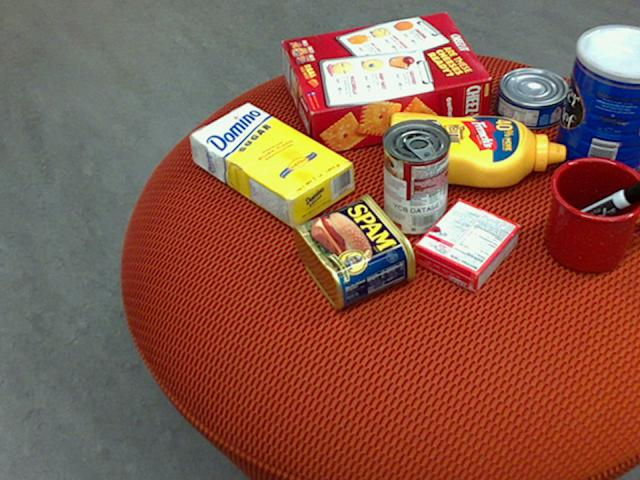cracker_box: (281, 11, 490, 155)
gelatin_box: (412, 200, 520, 294)
large_marker: (548, 178, 639, 239)
master_chef_can: (551, 24, 639, 185)
mug: (545, 156, 639, 273)
mustard_bottle: (386, 111, 564, 187)
potted_meat_can: (291, 192, 415, 309)
sugar_box: (188, 100, 353, 229)
tomato_soup_can: (381, 116, 449, 234)
tuna_fish_can: (493, 67, 567, 127)
